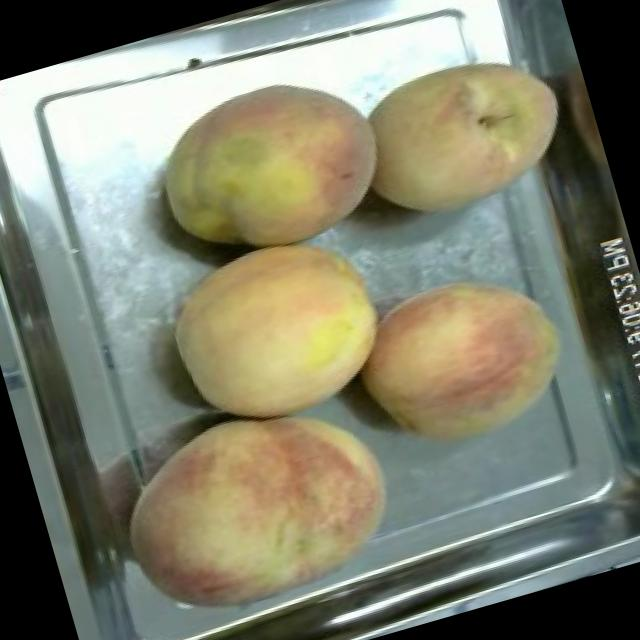Fruit: (93, 367, 425, 640), (148, 210, 412, 450), (134, 46, 402, 274), (334, 245, 592, 472), (342, 23, 592, 238)
